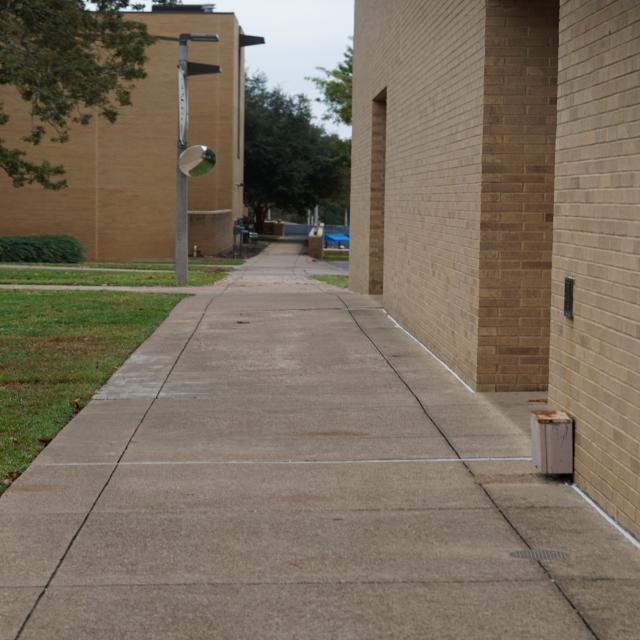Obstacle: (530, 409, 573, 475)
Sidewalk: (0, 241, 640, 638), (0, 265, 164, 273)
